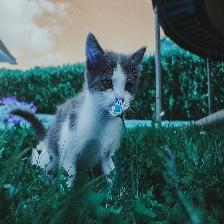kedo: (9, 33, 148, 189)
